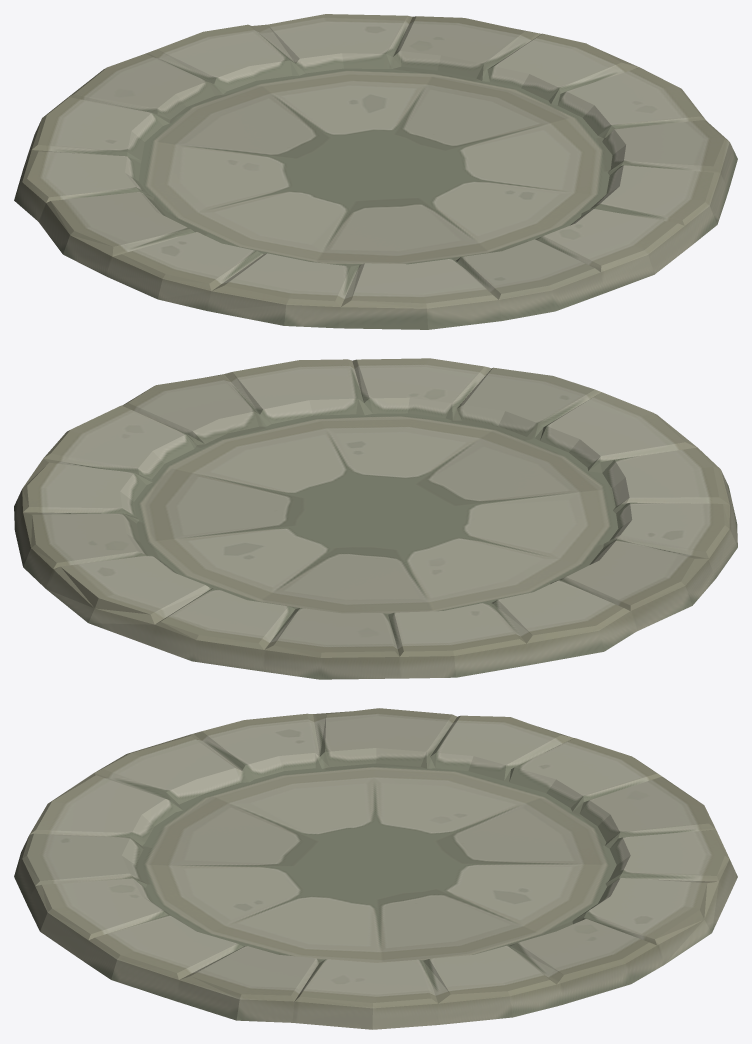
Rendered from NexusGround.FBX.
3 views of the same model, one above another, from view 1: azimuth 30°, elevation 25°; view 2: azimuth 150°, elevation 25°; view 3: azimuth 270°, elevation 25° (orthographic). The views are drawn at different scales.
Parts seen in each view (by area): view 1: Object698; view 2: Object698; view 3: Object698.
Boxes of the visible parts, x1=… form: Object698: x1=14, y1=14, x2=737, y2=329; Object698: x1=14, y1=358, x2=737, y2=679; Object698: x1=14, y1=708, x2=737, y2=1029.
Bounding box in the file's own units: 63.66 × 2.07 × 63.66.
Materials: 1 (1 with a texture image).
